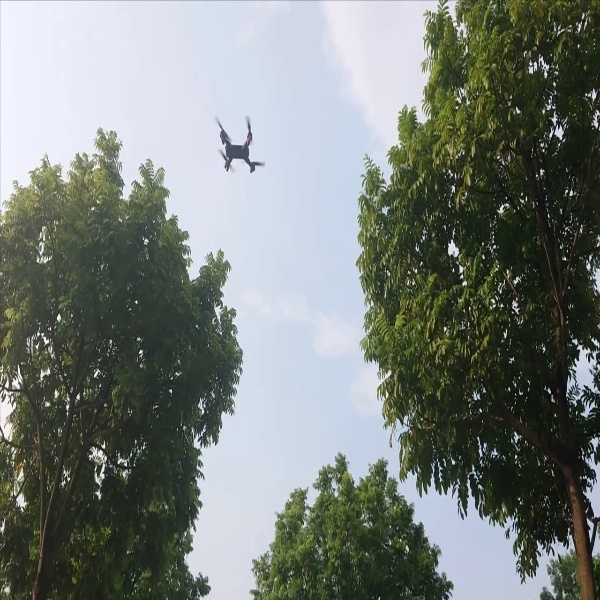drone: (209, 112, 270, 185)
